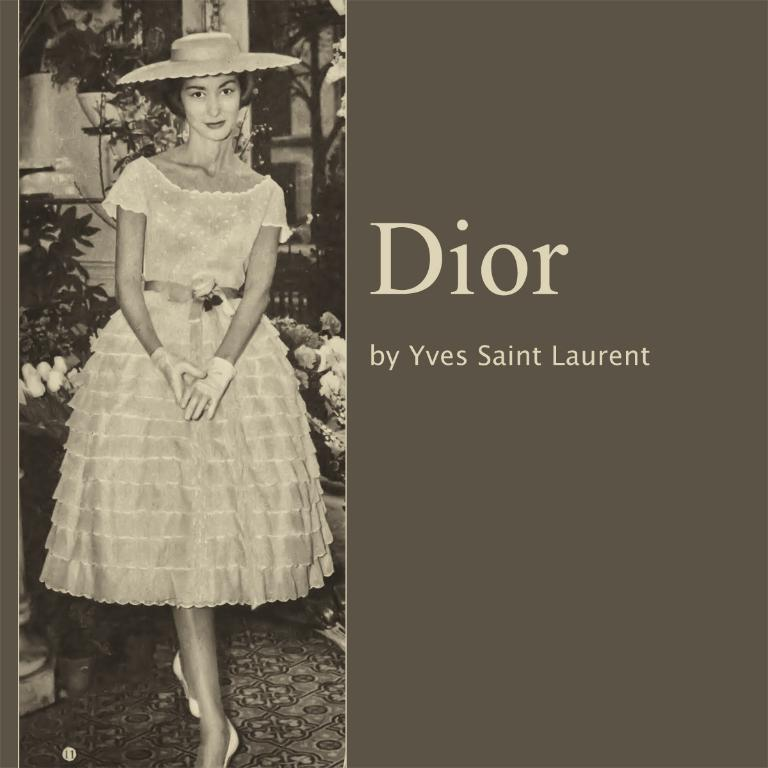Hat: (118, 20, 281, 90)
